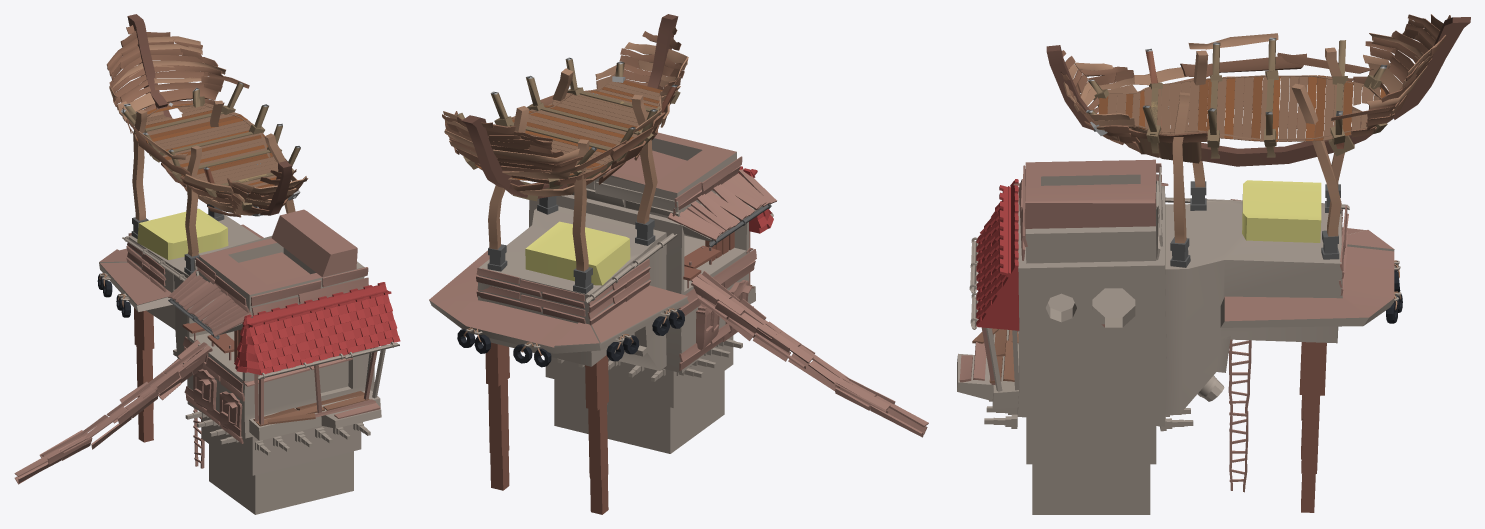
Rendered from linker bijgebouw segment 1.fbx.
3 renders of one model, left to right at view 1: azimuth 30°, elevation 25°; view 2: azimuth 150°, elevation 25°; view 3: azimuth 270°, elevation 25°, orthographic. The views are drawn at different scales.
Parts seen in each view (by area): view 1: linker_bijgebouw_segment_1; view 2: linker_bijgebouw_segment_1; view 3: linker_bijgebouw_segment_1.
Boxes of the visible parts, x1,y1,x2,y2 form: linker_bijgebouw_segment_1: [14, 14, 400, 514]; linker_bijgebouw_segment_1: [429, 14, 928, 514]; linker_bijgebouw_segment_1: [957, 14, 1470, 514].
Size of the model in its own units: 49.56 by 54.42 by 52.09.
